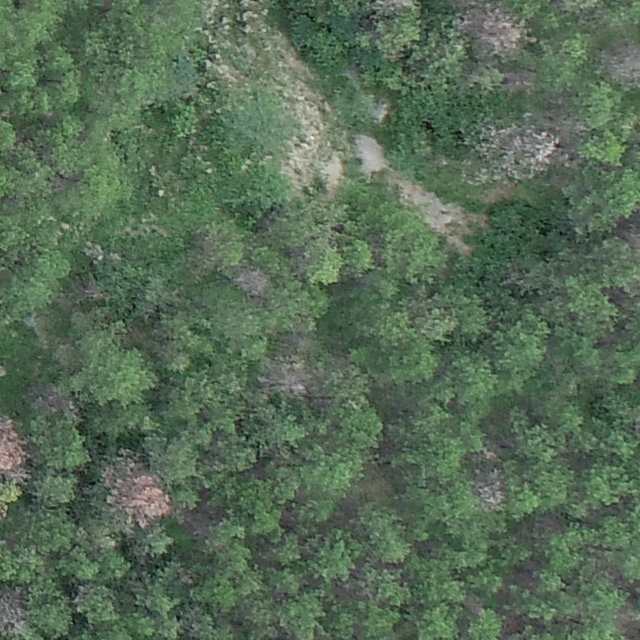unhealthy: (104, 454, 171, 530), (480, 127, 560, 180), (460, 4, 523, 56), (256, 357, 312, 399), (600, 39, 640, 89), (187, 224, 229, 271), (0, 417, 29, 483), (27, 385, 78, 418), (231, 263, 272, 300), (0, 588, 27, 639), (473, 472, 506, 512), (500, 68, 536, 96), (175, 509, 208, 539), (369, 0, 418, 14), (78, 280, 105, 303), (462, 591, 485, 616), (176, 568, 196, 586)
